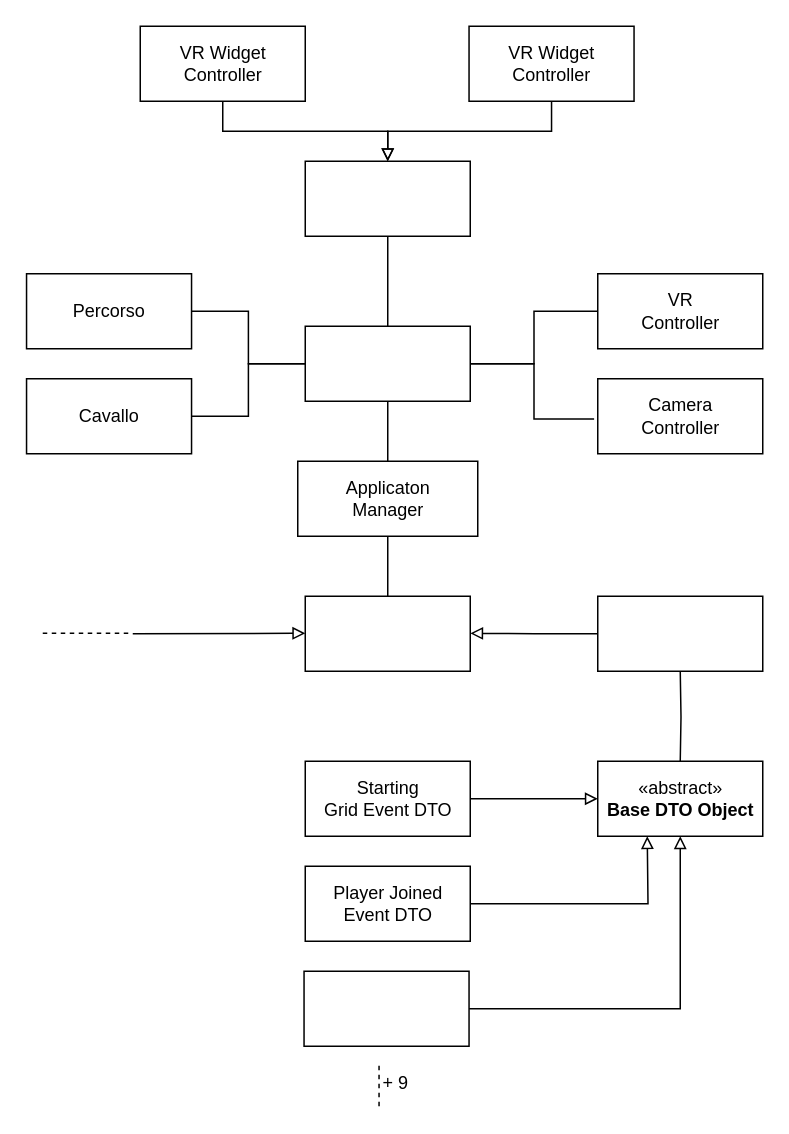
This 789x1134 diagram has some shape labels left out. The shapes that lost their labels are listed below. From the top down, each one's box as (x1, y1, x2, y2) in pixels, then its label:
(304, 160, 470, 236): «abstract» Widget Controller
(304, 325, 470, 401): Scene Controller
(304, 595, 470, 671): «abstract» Network
(596, 595, 763, 671): Metarace Network
(303, 970, 469, 1046): Play Event DTO
